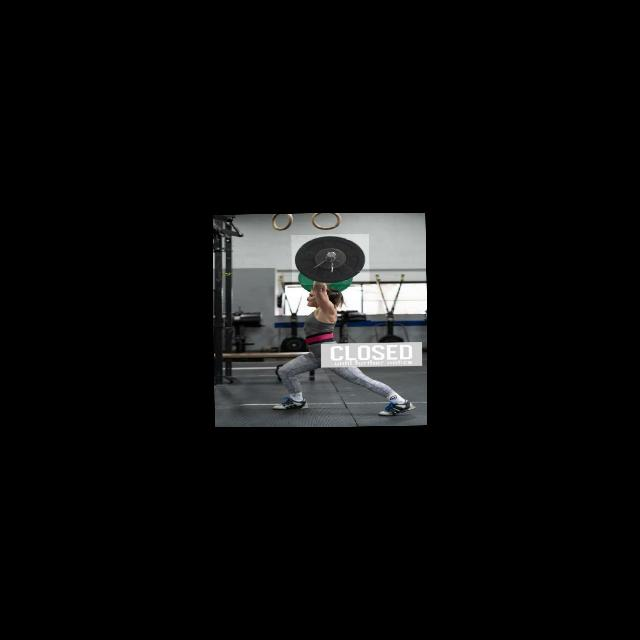barbell: (291, 234, 369, 285)
